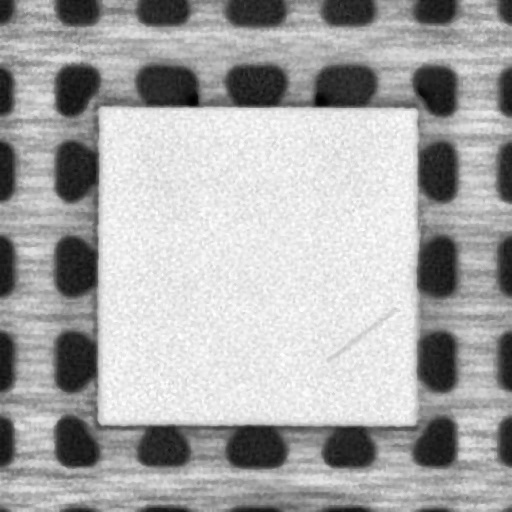DIE_CRACK: (326, 306, 401, 364)
